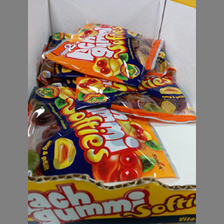candy: (27, 86, 177, 182), (42, 22, 164, 87)
